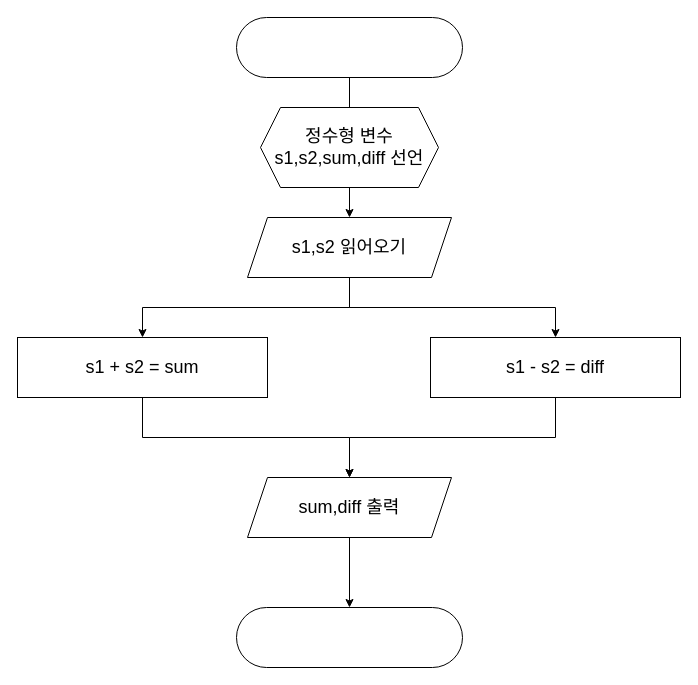
Image size: 698x685. Some labels were removed from this diagram. Here are the shapes that lost their labels. From the top down, the centre of each, then its label:
(349,47): 시작
(349,637): 종료
